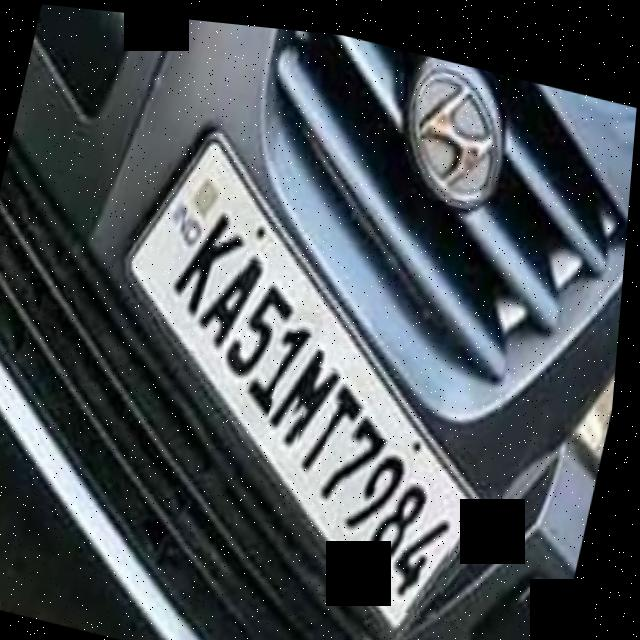1: (251, 302, 323, 419)
4: (401, 500, 463, 601)
5: (228, 263, 304, 383)
7: (324, 402, 396, 503)
8: (370, 469, 443, 574)
9: (346, 433, 420, 534)
A: (203, 244, 273, 353)
K: (175, 193, 255, 327)
M: (273, 335, 353, 454)
T: (300, 367, 374, 482)
